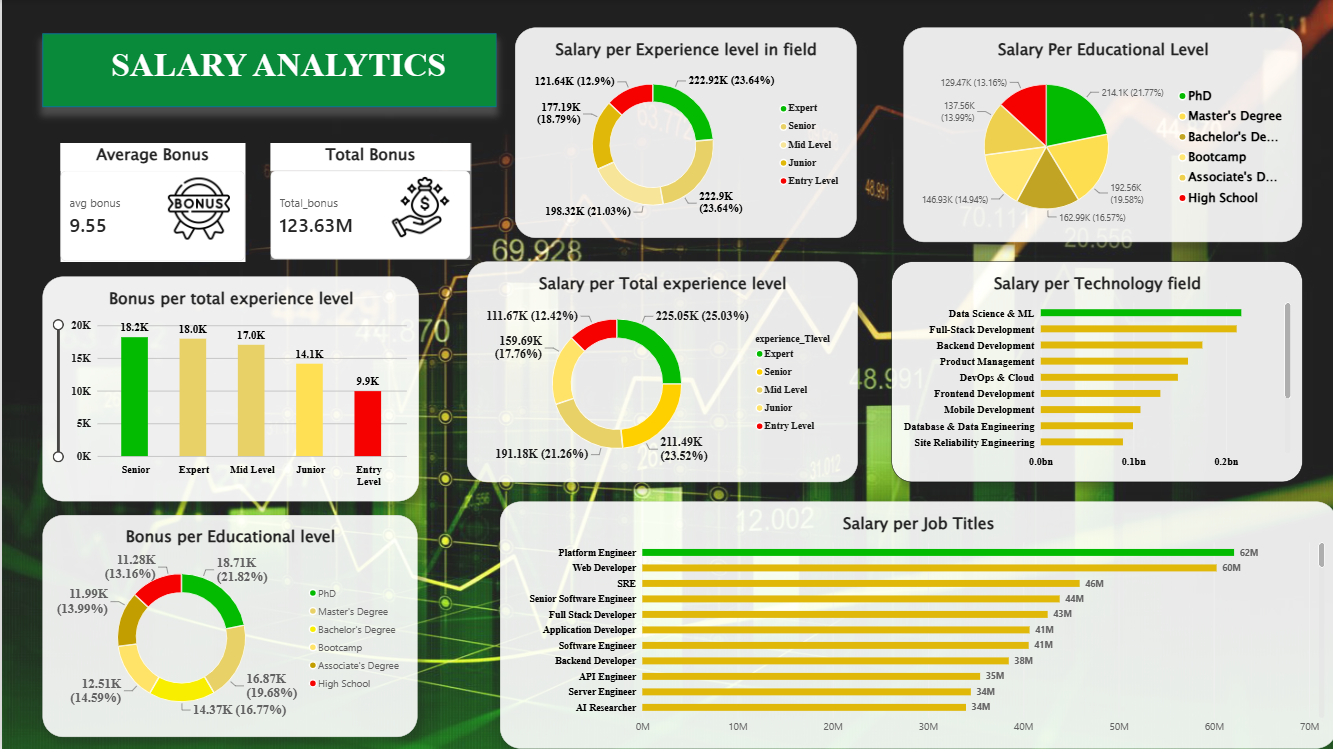

The page's visual inventory and layout, read from the dashboard file:
{"tool":"powerbi","page":{"name":"Salary analytics","canvas":[1920,1080],"ordinal":1},"visuals":[{"type":"cardVisual","title":"Average Bonus","fields":{"Data":["tech_salary_dataset.avg bonus"]},"box":[84.1,207.1,265,170],"z":0,"group":"g2"},{"type":"cardVisual","title":"Total Bonus","fields":{"Data":["tech_salary_dataset.Total_bonus"]},"box":[386.1,207.1,287.5,167.5],"z":0,"group":"g1"},{"type":"barChart","title":"Salary per Technology field","fields":{"Category":["tech_salary_dataset.primary_tech_field"],"Y":["Sum(tech_salary_dataset.annual_salary_usd)"]},"box":[1279.4,376.5,591.2,317.6],"z":0},{"type":"image","box":[531.1,255.3,142.5,89.5],"z":1000,"group":"g1"},{"type":"image","box":[217.9,257.3,131.2,89.2],"z":1000,"group":"g2"},{"type":"clusteredBarChart","title":"Salary per Job Titles","fields":{"Category":["tech_salary_dataset.job_title"],"Y":["Sum(tech_salary_dataset.annual_salary_usd)"]},"box":[717,723,1203,355.4],"z":1000},{"type":"donutChart","title":"Salary per Total experience level","fields":{"Y":["tech_salary_dataset.salary median"],"Category":["tech_salary_dataset.experience_Tlevel"]},"box":[667.6,376.5,561.8,317.6],"z":2000},{"type":"pieChart","title":"Salary Per Educational Level","fields":{"Category":["tech_salary_dataset.education_level"],"Y":["tech_salary_dataset.salary median"]},"box":[1297.1,41.2,573.5,308.8],"z":3000},{"type":"donutChart","title":"Salary per Experience level in field","fields":{"Category":["tech_salary_dataset.experience_flevel"],"Y":["tech_salary_dataset.salary median"]},"box":[738.2,41.2,491.2,302.9],"z":4000},{"type":"clusteredColumnChart","title":"Bonus per total experience level","fields":{"Category":["tech_salary_dataset.experience_Tlevel"],"Y":["ExperienceLevelSort.MA"]},"box":[58.2,399.1,541.4,323.6],"z":5000},{"type":"donutChart","title":"Bonus per Educational level","fields":{"Y":["ExperienceLevelSort.MA"],"Category":["tech_salary_dataset.education_level"]},"box":[58.2,742.1,539.3,319.3],"z":6000},{"type":"shape","box":[58.8,50,652.9,105.9],"z":7000},{"type":"textbox","box":[58.8,67.6,679.4,88.2],"z":8000},{"type":"group","id":"g1","title":"Group 1","box":[386.1,207.1,289.1,168.3],"z":9000},{"type":"group","id":"g2","title":"Group 2","box":[84.1,207.1,265.3,170.4],"z":10000}]}

Visuals, with their boxes in screenshot pixels (x1, y1, x2, y2), scaled from the page's 1920x1080 canvas onto the 1333x749 screenshot:
"Average Bonus" cardVisual: 58:144:242:262
"Total Bonus" cardVisual: 268:144:468:260
"Salary per Technology field" barChart: 888:261:1299:481
image: 369:177:468:239
image: 151:178:242:240
"Salary per Job Titles" clusteredBarChart: 498:501:1332:748
"Salary per Total experience level" donutChart: 463:261:854:481
"Salary Per Educational Level" pieChart: 901:29:1299:243
"Salary per Experience level in field" donutChart: 513:29:854:239
"Bonus per total experience level" clusteredColumnChart: 40:277:416:501
"Bonus per Educational level" donutChart: 40:515:415:736
shape: 41:35:494:108
textbox: 41:47:513:108
"Group 1" group: 268:144:469:260
"Group 2" group: 58:144:243:262
